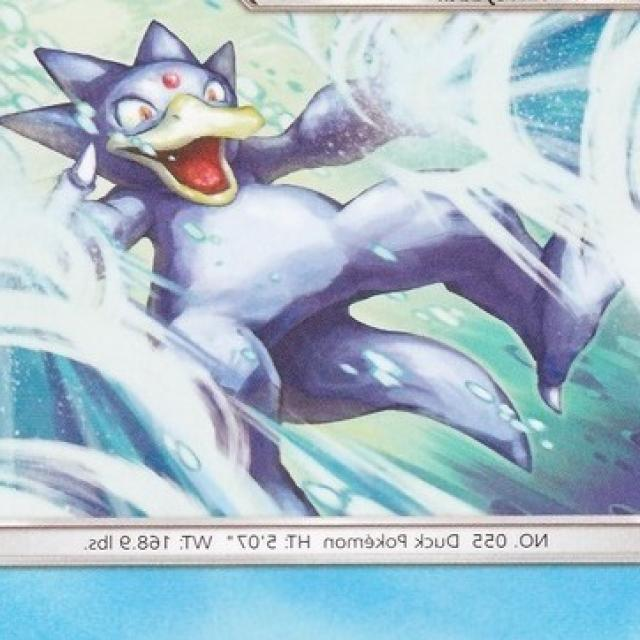Golduck: (46, 50, 538, 461)
